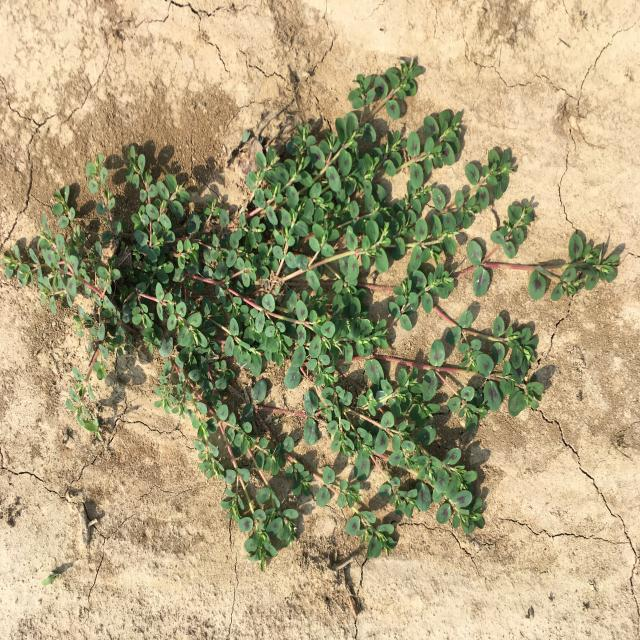SpottedSpurge: (2, 56, 620, 573)
